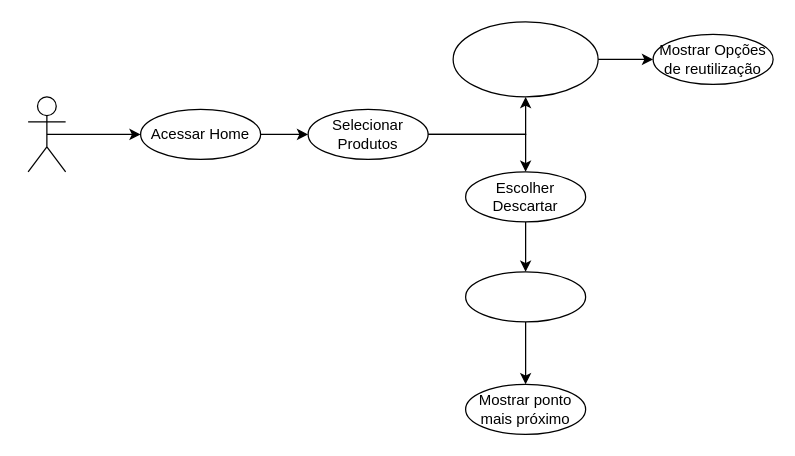
Image size: 795x456. Some labels were removed from this diagram. Each missing label, with the centre of its shape:
Digitar CEP: point 525,296
Escolher Reutilizar: point 525,59
Usuário: point 46,134
